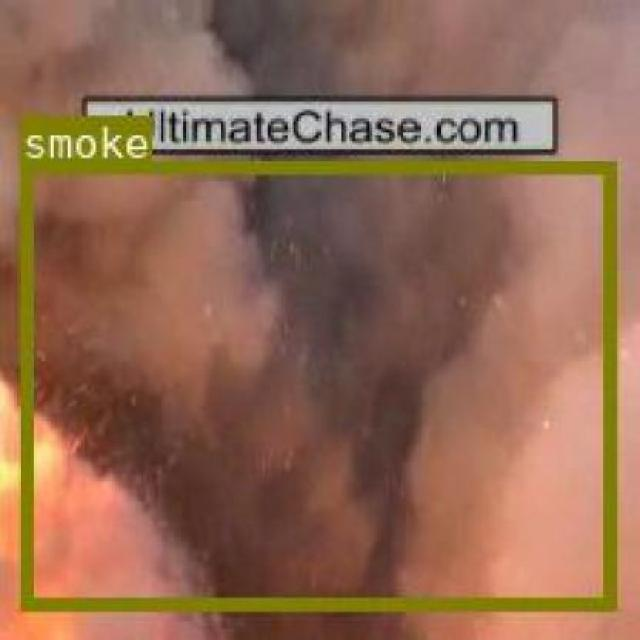smoke: (18, 160, 614, 606)
